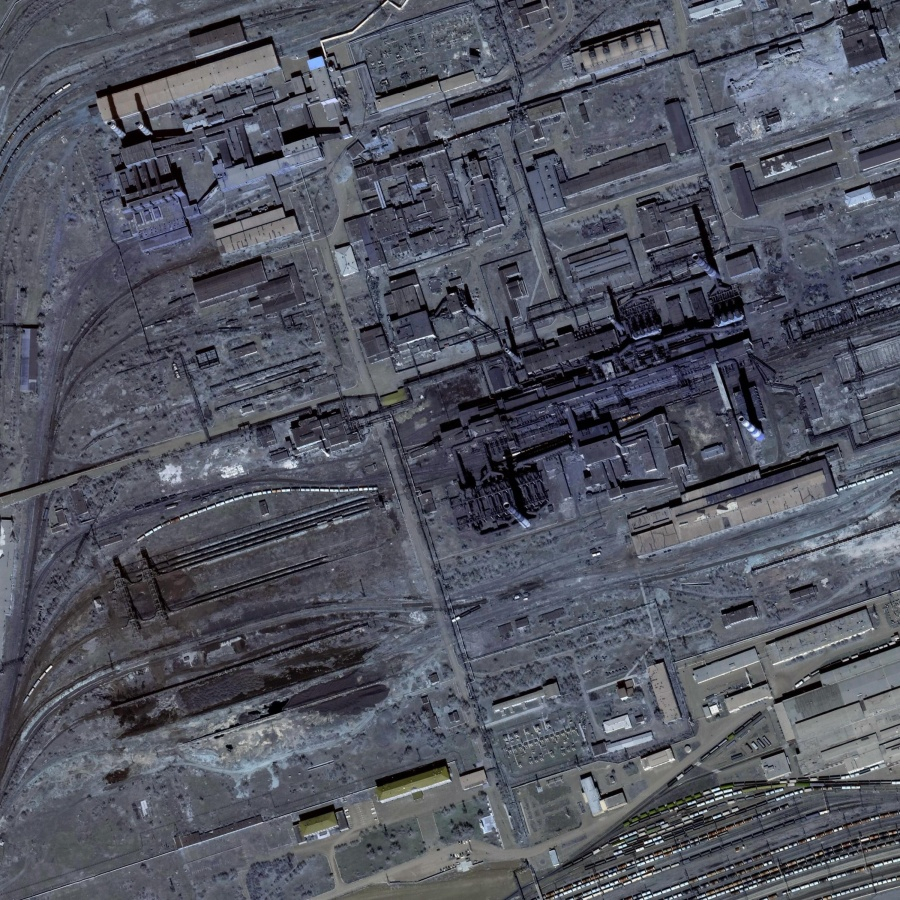PowerPlant: (433, 241, 785, 535)
